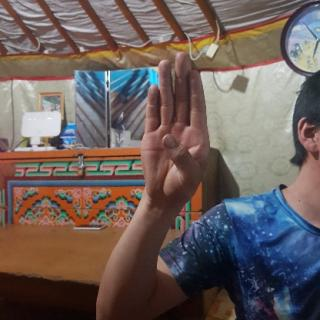KAAF: (141, 48, 216, 210)
